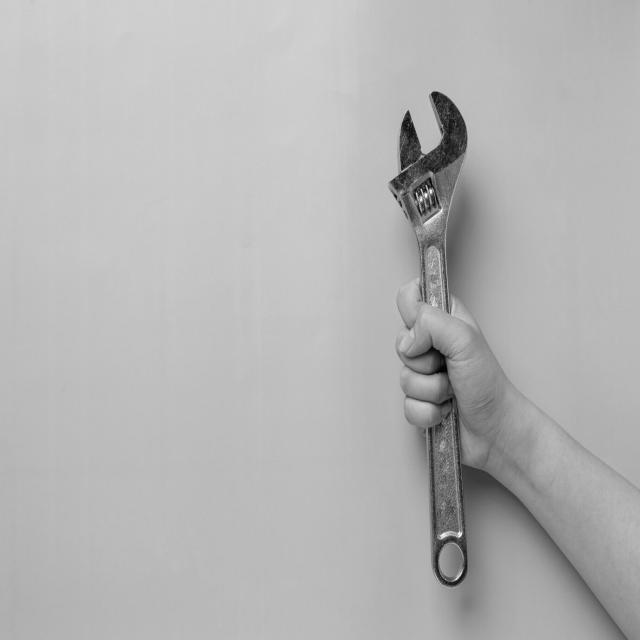wrench: (343, 57, 508, 632)
